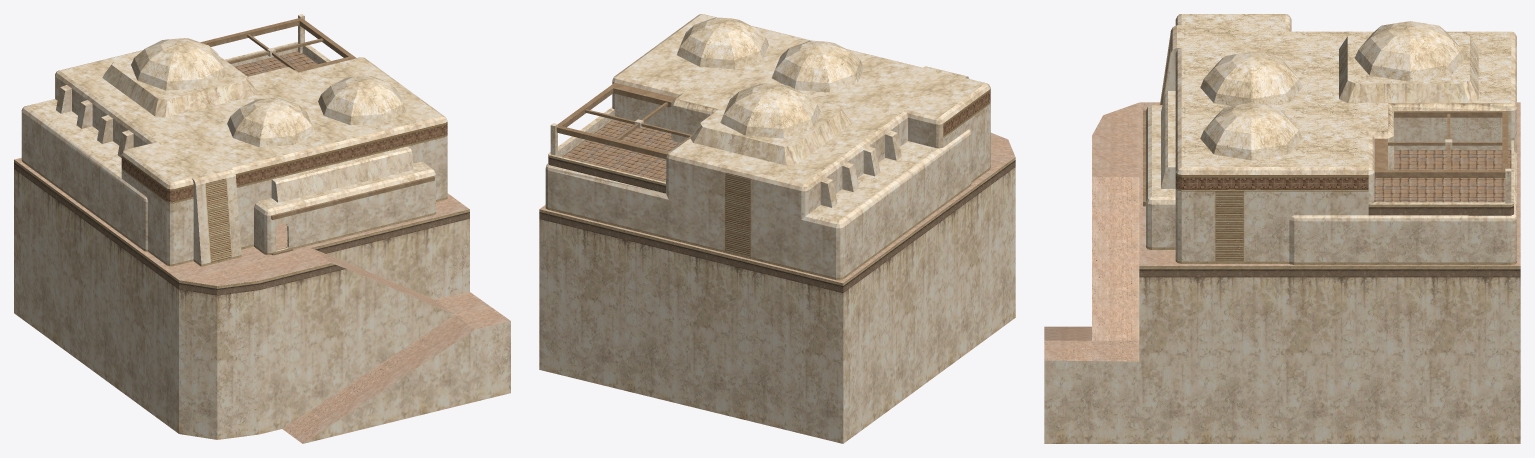
Rendered from ply_tato_house_lg_s01_fp1_r0_mesh_l1.fbx.
3 renders of one model, left to right at view 1: azimuth 30°, elevation 25°; view 2: azimuth 150°, elevation 25°; view 3: azimuth 270°, elevation 25°, orthographic. The views are drawn at different scales.
Visible parts, largest first — view 1: mesh_node; view 2: mesh_node; view 3: mesh_node.
Boxes of the visible parts, x1,y1,x2,y2 form: mesh_node: [14, 14, 510, 443]; mesh_node: [539, 14, 1015, 443]; mesh_node: [1044, 14, 1520, 443].
Bounding box in the file's own units: 32.67 × 29.62 × 40.11.
